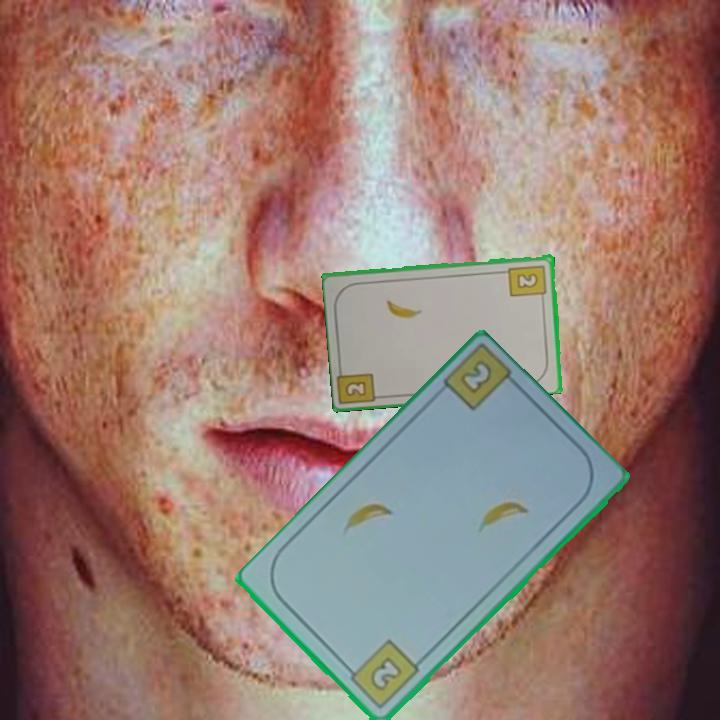2b: (342, 637, 422, 713), (506, 261, 550, 303), (459, 360, 492, 394), (342, 377, 370, 399)
